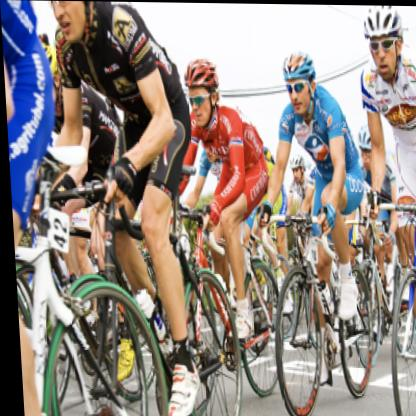With Helmet: (361, 6, 408, 78), (180, 57, 220, 126), (278, 48, 316, 114)
